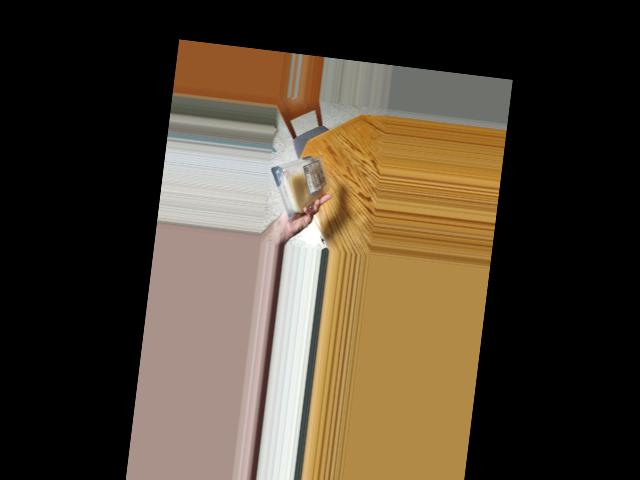cheese: (270, 150, 323, 221)
